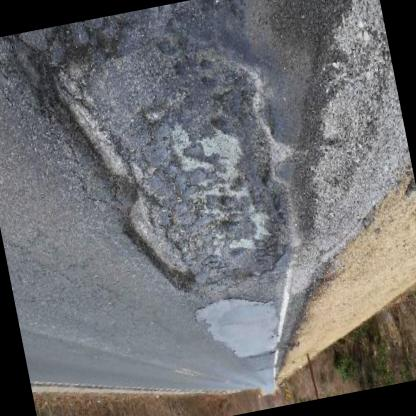pothole: (28, 0, 303, 318)
